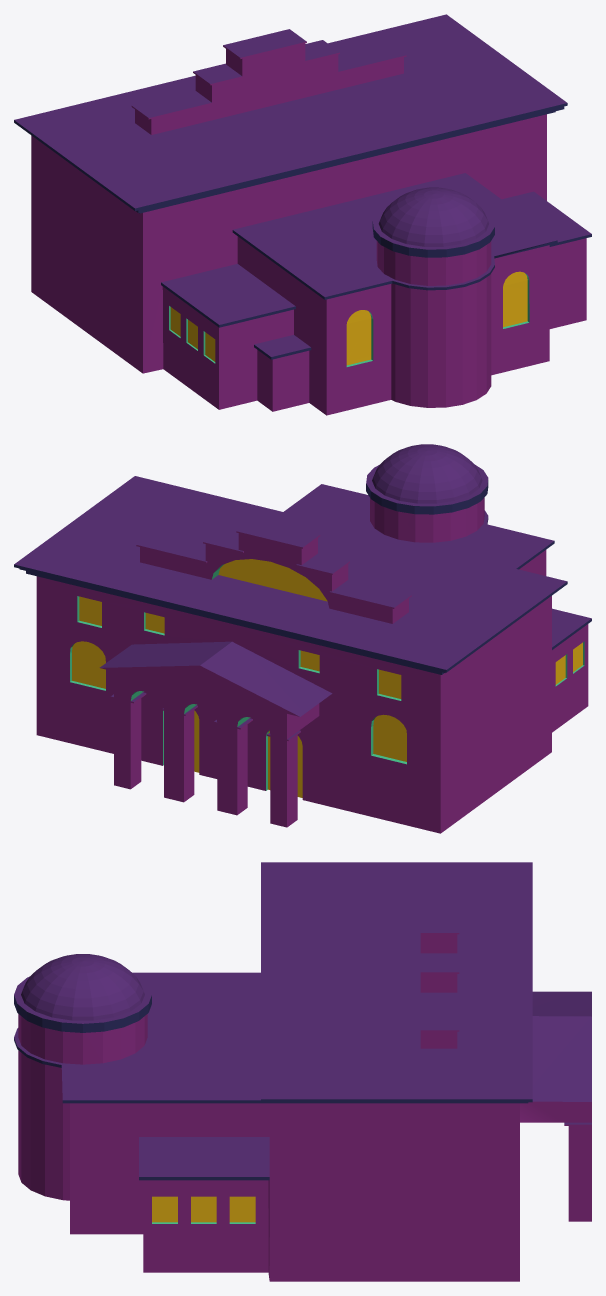
The model's file is Laznia-Rogatka_Lubelska.fbx.
3 renders of one model, top to bottom at view 1: azimuth 30°, elevation 25°; view 2: azimuth 150°, elevation 25°; view 3: azimuth 270°, elevation 25°, orthographic. The views are drawn at different scales.
Visible parts, largest first — view 1: Laznia_Rogatka_Lubelska_Laznia_cala_; view 2: Laznia_Rogatka_Lubelska_Laznia_cala_; view 3: Laznia_Rogatka_Lubelska_Laznia_cala_.
Boxes of the visible parts, <box> form: Laznia_Rogatka_Lubelska_Laznia_cala_: <box>14,14,591,415</box>; Laznia_Rogatka_Lubelska_Laznia_cala_: <box>14,444,591,833</box>; Laznia_Rogatka_Lubelska_Laznia_cala_: <box>14,862,591,1281</box>.
Bounding box in the file's own units: 6662 × 3331 × 6867.
